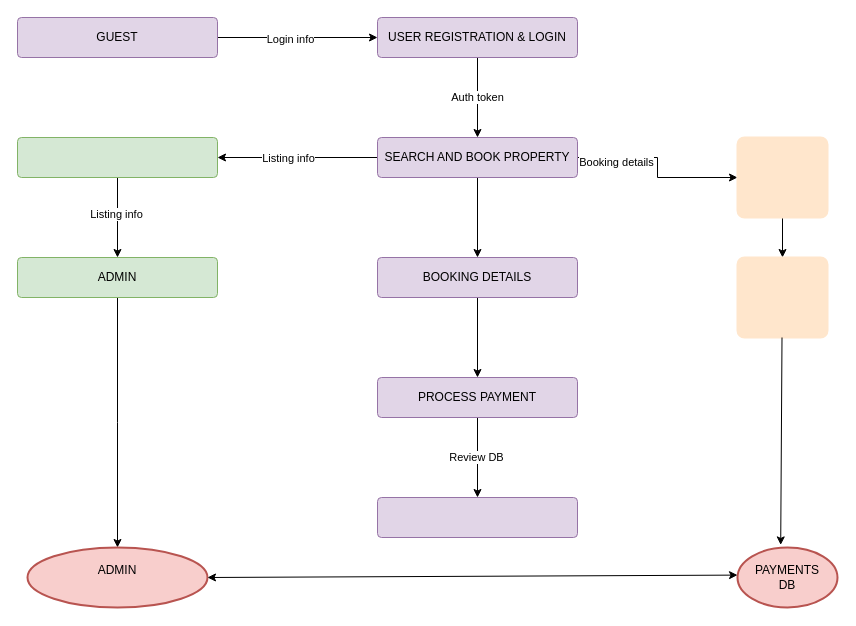
Some shapes in this 856 by 626 pixel diagram are drawn without their labels. Each missing label, with the box of its shape:
HOST: (16, 136, 218, 178)
PAYMENT DB: (736, 256, 828, 338)
PROCESS DB: (736, 136, 828, 218)
REVIEW SYSTEM: (376, 496, 578, 538)
